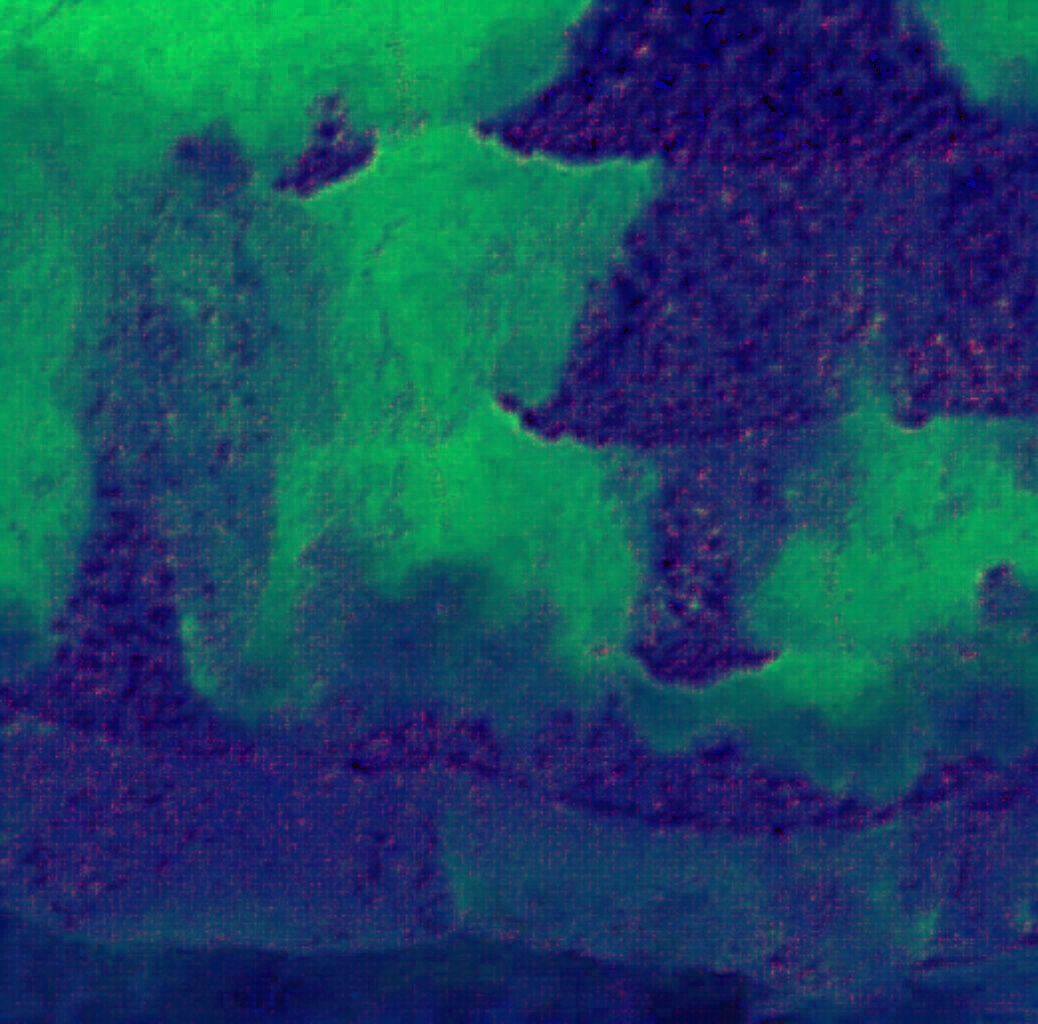rip_current: (232, 58, 695, 809)
